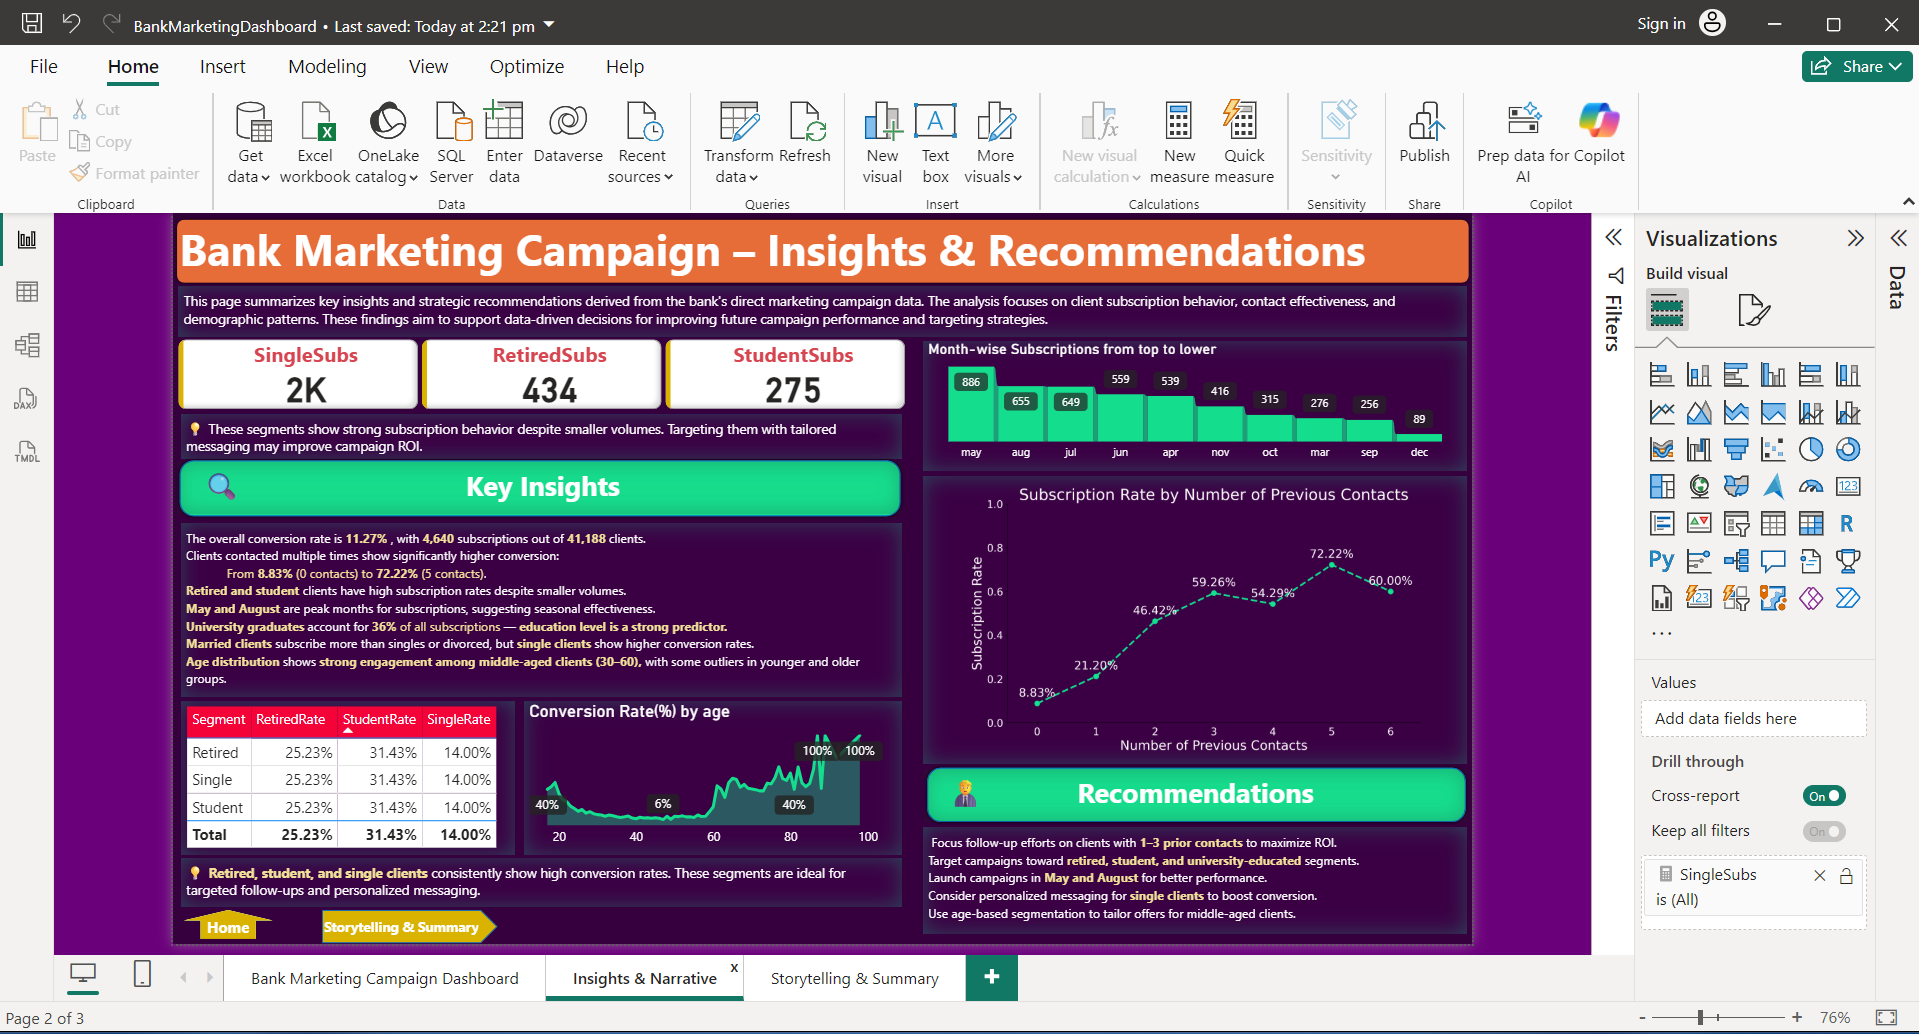

What the dashboard file says about the page in this screenshot:
{"tool":"powerbi","page":{"name":"Insights & Narrative","canvas":[1280,720],"ordinal":1},"visuals":[{"type":"shape","box":[738.7,542.6,538.3,61.6],"z":0},{"type":"shape","box":[2.6,240.2,717.7,62.9],"z":1000},{"type":"shape","box":[0,2.9,1280,70],"z":2000},{"type":"textbox","box":[1.3,1.3,1275.7,72],"z":3000},{"type":"textbox","box":[5.2,72,1269.2,49.8],"z":4000},{"type":"textbox","box":[7.9,305.2,709.9,171.6],"z":5000},{"type":"textbox","box":[10.5,245.2,691.6,51.1],"z":6000},{"type":"textbox","box":[757,547.8,506.9,51.1],"z":7000},{"type":"textbox","box":[738.7,605.1,535.7,104.8],"z":8000},{"type":"lineChart","fields":{"Category":["bank_marketing_cleaned.age"],"Y":["bank_marketing_cleaned.Conversion Rate(%)"]},"box":[345.8,480.2,372,151.9],"z":9000},{"type":"columnChart","title":"Total Subscription by Month","fields":{"Category":["bank_marketing_cleaned.MonthNumber","bank_marketing_cleaned.month"],"Y":["bank_marketing_cleaned.Total Subscription"]},"box":[738.7,125.7,535.7,128.3],"z":10000},{"type":"textbox","box":[7.9,197.8,709.9,44.5],"z":11000},{"type":"tableEx","title":"Conversion Rate","fields":{"Values":["SegmentLabels.Segment","bank_marketing_cleaned.RetiredRate","bank_marketing_cleaned.StudentRate","bank_marketing_cleaned.SingleRate"]},"box":[7.9,480.2,328.7,151.9],"z":12000},{"type":"textbox","box":[7.9,635.2,709.9,48.5],"z":13000},{"type":"pythonVisual","fields":{"Values":["FilteredTable.y","FilteredTable.previous","FilteredTable.poutcome","FilteredTable.pdays","FilteredTable.nr.employed","FilteredTable.MonthNumber","FilteredTable.month","FilteredTable.marital","FilteredTable.loan","FilteredTable.job","FilteredTable.housing","FilteredTable.euribor3m"]},"box":[738.5,259.7,536.1,283.4],"z":14000},{"type":"cardVisual","fields":{"Data":["bank_marketing_cleaned.RetiredSubs","bank_marketing_cleaned.SingleSubs","bank_marketing_cleaned.StudentSubs"]},"box":[0,119.2,728.2,79.9],"z":15000},{"type":"shape","box":[10.5,686.3,87.8,28.8],"z":16000},{"type":"shape","box":[146.7,686.3,172.9,32.7],"z":17000},{"type":"textbox","box":[24.9,245.2,61.6,60.2],"z":18000},{"type":"textbox","box":[757,547.8,52.4,51.1],"z":19000}]}

Visuals, with their boxes on the page's 1280x720 design canvas (x1, y1, x2, y2). These are canvas units, not pixel positions in the 1919x1034 screenshot, which may show the page scaled, cropped or inside an application window:
shape: (left=739, top=543, right=1277, bottom=604)
shape: (left=3, top=240, right=720, bottom=303)
shape: (left=0, top=3, right=1280, bottom=73)
textbox: (left=1, top=1, right=1277, bottom=73)
textbox: (left=5, top=72, right=1274, bottom=122)
textbox: (left=8, top=305, right=718, bottom=477)
textbox: (left=10, top=245, right=702, bottom=296)
textbox: (left=757, top=548, right=1264, bottom=599)
textbox: (left=739, top=605, right=1274, bottom=710)
lineChart - bank_marketing_cleaned.age x bank_marketing_cleaned.Conversion Rate(%): (left=346, top=480, right=718, bottom=632)
"Total Subscription by Month" columnChart: (left=739, top=126, right=1274, bottom=254)
textbox: (left=8, top=198, right=718, bottom=242)
"Conversion Rate" tableEx: (left=8, top=480, right=337, bottom=632)
textbox: (left=8, top=635, right=718, bottom=684)
pythonVisual - FilteredTable.y x FilteredTable.previous: (left=738, top=260, right=1275, bottom=543)
cardVisual - bank_marketing_cleaned.RetiredSubs x bank_marketing_cleaned.SingleSubs: (left=0, top=119, right=728, bottom=199)
shape: (left=10, top=686, right=98, bottom=715)
shape: (left=147, top=686, right=320, bottom=719)
textbox: (left=25, top=245, right=86, bottom=305)
textbox: (left=757, top=548, right=809, bottom=599)
